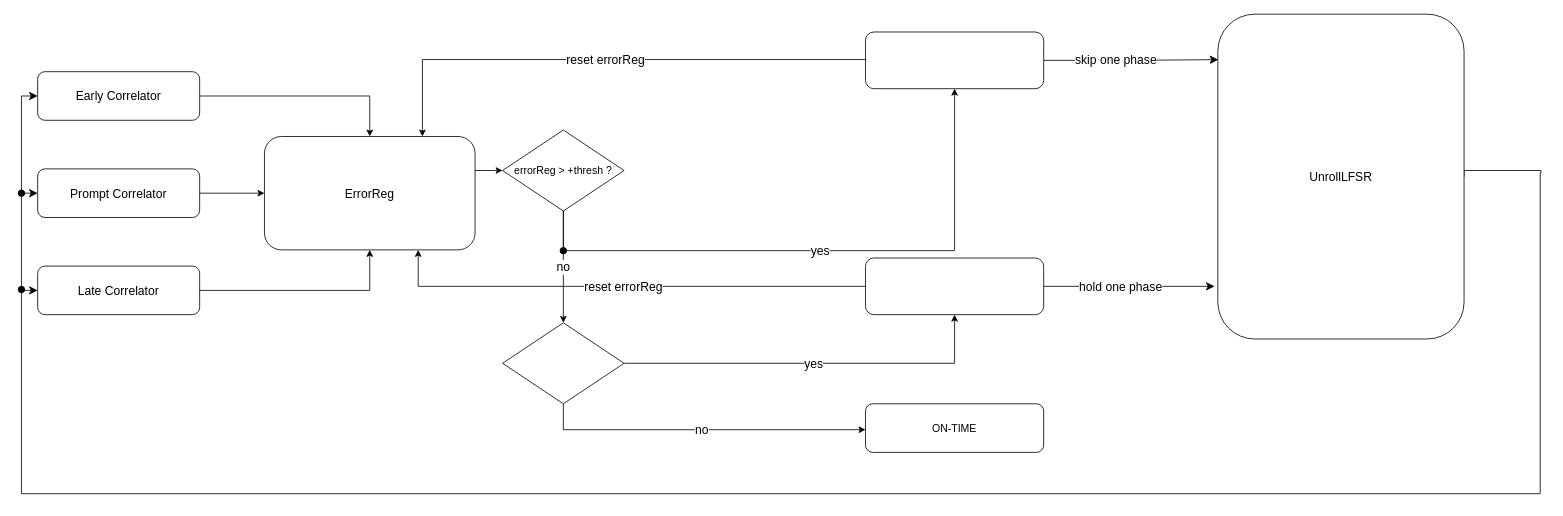
Image size: 1563x516. Some labels were removed from this diagram. Each missing label, with the centre of its shape:
ADVANCE: [954,60]
DELAY: [954,286]
errorReg < −thresh ?: [563,363]
